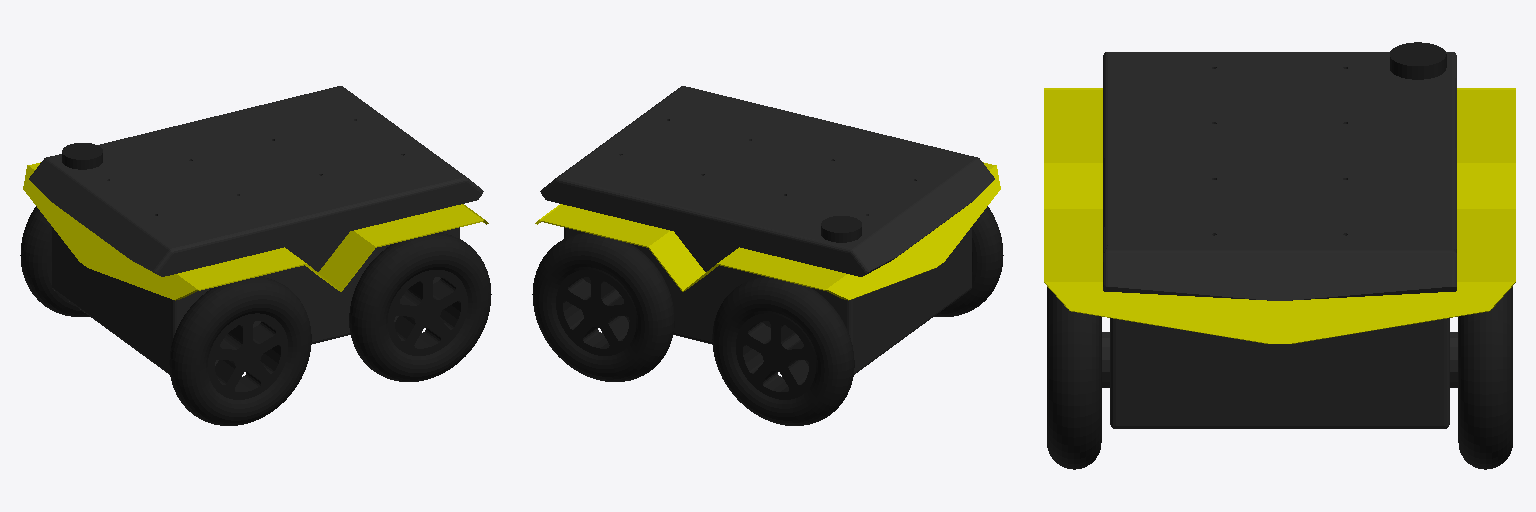
The robot description file, URDF, robot "iggy":
<?xml version="1.0" ?>
<!-- =================================================================================== -->
<!-- |    This document was autogenerated by xacro from [local-path]/catkin_ws/src/iggy_description/urdf/iggy_minimal.urdf.xacro | -->
<!-- |    EDITING THIS FILE BY HAND IS NOT RECOMMENDED                                 | -->
<!-- =================================================================================== -->
<!--
rosrun xacro xacro.py -o iggy_minimal.urdf `rospack find iggy_description`/urdf/iggy_minimal.urdf.xacro
check_urdf iggy_minimal.urdf
urdf_to_graphiz iggy_minimal.urdf
evince iggy_minimal.pdf


-->
<robot name="iggy" xmlns:controller="http://playerstage.sourceforge.net/gazebo/xmlschema/#controller" xmlns:interface="http://playerstage.sourceforge.net/gazebo/xmlschema/#interface" xmlns:xacro="http://www.ros.org/wiki/xacro">
  <!-- TODO UPDATE -->
  <!-- TODO UPDATE -->
  <!-- TODO UPDATE -->
  <!-- TODO UPDATE -->
  <!-- TODO UPDATE -->
  <!-- TODO UPDATE -->
  <!-- TODO UPDATE -->
  <!-- TODO UPDATE -->
  <material name="dark_grey">
    <color rgba="0.2 0.2 0.2 1.0"/>
  </material>
  <material name="light_grey">
    <color rgba="0.4 0.4 0.4 1.0"/>
  </material>
  <material name="yellow">
    <color rgba="0.8 0.8 0.0 1.0"/>
  </material>
  <material name="black">
    <color rgba="0.15 0.15 0.15 1.0"/>
  </material>
  <!-- TODO Create Caster to replace front wheels  -->
  <link name="front_left_wheel_link">
    <visual>
      <origin rpy="1.57079632679 0 0" xyz="0 0 0"/>
      <geometry>
        <mesh filename="package://iggy_description/meshes/jackal-wheel.stl"/>
      </geometry>
      <material name="black"/>
    </visual>
    <collision>
      <origin rpy="1.57079632679 0 0" xyz="0 0 0"/>
      <geometry>
        <cylinder length="0.04" radius="0.098"/>
      </geometry>
    </collision>
    <inertial>
      <origin rpy="0 0 0" xyz="0 0 0"/>
      <mass value="0.477"/>
      <inertia ixx="0.0013" ixy="0" ixz="0" iyy="0.0024" iyz="0" izz="0.0013"/>
    </inertial>
  </link>
  <gazebo reference="front_left_wheel_link">
    <material>Gazebo/DarkGrey</material>
  </gazebo>
  <joint name="front_left_wheel" type="continuous">
    <parent link="chassis_link"/>
    <child link="front_left_wheel_link"/>
    <origin rpy="0 0 0" xyz="0.131 0.187795 0.0345"/>
    <axis xyz="0 1 0"/>
  </joint>
  <!-- Create a transmission for each wheel -->
  <transmission name="front_left_wheel_trans">
    <type>transmission_interface/SimpleTransmission</type>
    <joint name="front_left_wheel">
      <hardwareInterface>VelocityJointInterface</hardwareInterface>
    </joint>
    <actuator name="front_left_actuator">
      <mechanicalReduction>1</mechanicalReduction>
    </actuator>
  </transmission>
  <link name="front_right_wheel_link">
    <visual>
      <origin rpy="1.57079632679 0 0" xyz="0 0 0"/>
      <geometry>
        <mesh filename="package://iggy_description/meshes/jackal-wheel.stl"/>
      </geometry>
      <material name="black"/>
    </visual>
    <collision>
      <origin rpy="1.57079632679 0 0" xyz="0 0 0"/>
      <geometry>
        <cylinder length="0.04" radius="0.098"/>
      </geometry>
    </collision>
    <inertial>
      <origin rpy="0 0 0" xyz="0 0 0"/>
      <mass value="0.477"/>
      <inertia ixx="0.0013" ixy="0" ixz="0" iyy="0.0024" iyz="0" izz="0.0013"/>
    </inertial>
  </link>
  <gazebo reference="front_right_wheel_link">
    <material>Gazebo/DarkGrey</material>
  </gazebo>
  <joint name="front_right_wheel" type="continuous">
    <parent link="chassis_link"/>
    <child link="front_right_wheel_link"/>
    <origin rpy="0 0 0" xyz="0.131 -0.187795 0.0345"/>
    <axis xyz="0 1 0"/>
  </joint>
  <!-- Create a transmission for each wheel -->
  <transmission name="front_right_wheel_trans">
    <type>transmission_interface/SimpleTransmission</type>
    <joint name="front_right_wheel">
      <hardwareInterface>VelocityJointInterface</hardwareInterface>
    </joint>
    <actuator name="front_right_actuator">
      <mechanicalReduction>1</mechanicalReduction>
    </actuator>
  </transmission>
  <link name="rear_left_wheel_link">
    <visual>
      <origin rpy="1.57079632679 0 0" xyz="0 0 0"/>
      <geometry>
        <mesh filename="package://iggy_description/meshes/jackal-wheel.stl"/>
      </geometry>
      <material name="black"/>
    </visual>
    <collision>
      <origin rpy="1.57079632679 0 0" xyz="0 0 0"/>
      <geometry>
        <cylinder length="0.04" radius="0.098"/>
      </geometry>
    </collision>
    <inertial>
      <origin rpy="0 0 0" xyz="0 0 0"/>
      <mass value="0.477"/>
      <inertia ixx="0.0013" ixy="0" ixz="0" iyy="0.0024" iyz="0" izz="0.0013"/>
    </inertial>
  </link>
  <gazebo reference="rear_left_wheel_link">
    <material>Gazebo/DarkGrey</material>
  </gazebo>
  <joint name="rear_left_wheel" type="continuous">
    <parent link="chassis_link"/>
    <child link="rear_left_wheel_link"/>
    <origin rpy="0 0 0" xyz="-0.131 0.187795 0.0345"/>
    <axis xyz="0 1 0"/>
  </joint>
  <!-- Create a transmission for each wheel -->
  <transmission name="rear_left_wheel_trans">
    <type>transmission_interface/SimpleTransmission</type>
    <joint name="rear_left_wheel">
      <hardwareInterface>VelocityJointInterface</hardwareInterface>
    </joint>
    <actuator name="rear_left_actuator">
      <mechanicalReduction>1</mechanicalReduction>
    </actuator>
  </transmission>
  <link name="rear_right_wheel_link">
    <visual>
      <origin rpy="1.57079632679 0 0" xyz="0 0 0"/>
      <geometry>
        <mesh filename="package://iggy_description/meshes/jackal-wheel.stl"/>
      </geometry>
      <material name="black"/>
    </visual>
    <collision>
      <origin rpy="1.57079632679 0 0" xyz="0 0 0"/>
      <geometry>
        <cylinder length="0.04" radius="0.098"/>
      </geometry>
    </collision>
    <inertial>
      <origin rpy="0 0 0" xyz="0 0 0"/>
      <mass value="0.477"/>
      <inertia ixx="0.0013" ixy="0" ixz="0" iyy="0.0024" iyz="0" izz="0.0013"/>
    </inertial>
  </link>
  <gazebo reference="rear_right_wheel_link">
    <material>Gazebo/DarkGrey</material>
  </gazebo>
  <joint name="rear_right_wheel" type="continuous">
    <parent link="chassis_link"/>
    <child link="rear_right_wheel_link"/>
    <origin rpy="0 0 0" xyz="-0.131 -0.187795 0.0345"/>
    <axis xyz="0 1 0"/>
  </joint>
  <!-- Create a transmission for each wheel -->
  <transmission name="rear_right_wheel_trans">
    <type>transmission_interface/SimpleTransmission</type>
    <joint name="rear_right_wheel">
      <hardwareInterface>VelocityJointInterface</hardwareInterface>
    </joint>
    <actuator name="rear_right_actuator">
      <mechanicalReduction>1</mechanicalReduction>
    </actuator>
  </transmission>
  <link name="base_link"/>
  <joint name="base_link_joint" type="fixed">
    <origin rpy="0 0 0" xyz="0 0 0"/>
    <parent link="base_link"/>
    <child link="chassis_link"/>
  </joint>
  <link name="chassis_link">
    <visual>
      <origin rpy="1.57079632679 0 1.57079632679" xyz="0 0 -0.0655"/>
      <geometry>
        <mesh filename="package://iggy_description/meshes/jackal-base.stl"/>
      </geometry>
      <material name="dark_grey"/>
    </visual>
    <collision>
      <origin xyz="0 0 0.092"/>
      <geometry>
        <box size="0.914 0.609 0.184"/>
      </geometry>
    </collision>
    <inertial>
      <!-- Center of mass -->
      <origin rpy="0 0 0" xyz="0.012  0.002 0.067"/>
      <mass value="16.523"/>
      <!-- Moments of inertia: ( chassis without wheels ) -->
      <inertia ixx="0.3136" ixy="-0.0008" ixz="0.0164" iyy="0.3922" iyz="-0.0009" izz="0.4485"/>
    </inertial>
  </link>
  <!-- TODO IGGY does not have fenders. What to do with this?? -->
  <link name="fenders_link">
    <visual>
      <origin rpy="1.57079632679 0 1.57079632679" xyz="0 0 -0.0655"/>
      <geometry>
        <mesh filename="package://iggy_description/meshes/jackal-fenders.stl"/>
      </geometry>
      <material name="yellow"/>
    </visual>
  </link>
  <joint name="fenders_joint" type="fixed">
    <parent link="chassis_link"/>
    <child link="fenders_link"/>
  </joint>
  <!-- TODO: Make this internal_imu_link or something, and use a mixed-in xacro
       to supply the joint between it and imu_link. This is important so that imu_link
       always points to the "active" IMU. When an upgrade IMU is connected, the
       internal_imu_link should remain, but imu_link should point to the upgrade one. -->
  <link name="imu_link">
    <inertial>
      <mass value="0.001"/>
      <origin rpy="0 0 0" xyz="0 0 0"/>
      <inertia ixx="1e-09" ixy="0.0" ixz="0.0" iyy="1e-09" iyz="0.0" izz="1e-09"/>
    </inertial>
  </link>
  <joint name="imu_joint" type="fixed">
    <parent link="chassis_link"/>
    <child link="imu_link"/>
  </joint>
  <!-- TODO: Same note as applies to imu_link -->
  <link name="navsat_link">
    <visual>
      <geometry>
        <cylinder length="0.016" radius="0.026"/>
      </geometry>
      <origin xyz="0 0 0.008"/>
      <material name="black"/>
    </visual>
  </link>
  <joint name="navsat_joint" type="fixed">
    <parent link="chassis_link"/>
    <child link="navsat_link"/>
    <origin xyz="-0.180 0.126 0.1815"/>
  </joint>
  <link name="mid_mount"/>
  <joint name="mid_mount_joint" type="fixed">
    <parent link="chassis_link"/>
    <child link="mid_mount"/>
    <origin xyz="0 0 0.184"/>
  </joint>
  <link name="rear_mount"/>
  <joint name="rear_mount_joint" type="fixed">
    <parent link="mid_mount"/>
    <child link="rear_mount"/>
    <origin xyz="-0.12 0 0"/>
  </joint>
  <link name="front_mount"/>
  <joint name="front_mount_joint" type="fixed">
    <parent link="mid_mount"/>
    <child link="front_mount"/>
    <origin xyz="0.12 0 0"/>
  </joint>
  <!-- Bring in simulation data for Gazebo. -->
  <!--  <gazebo>
    <plugin name="gazebo_ros_control" filename="libgazebo_ros_control.so">
      <robotNamespace>/iggy</robotNamespace>
    </plugin>
  </gazebo> -->
  <gazebo>
    <!-- TODO: make custom plugin for this that doesn't require an imu
        <plugin name="diffdrive_plugin" filename="libDiffDrivePlugin.so">                
                <alwaysOn>true</alwaysOn>
                <updateRate>50.0</updateRate>
                <left_joint>rear_left_wheel_link</left_joint>
                <right_joint>rear_right_wheel_link</right_joint>
                <wheelSeparation>${wheelbase}</wheelSeparation>
                <wheelDiameter>${wheel_radius*2}</wheelDiameter>
                <torque>50000</torque>
                <interface:position name="position_iface_2"/>  
                <robotNamespace>/iggy</robotNamespace>
                <robotBaseFrame>base_link</robotBaseFrame>
                <commandTopic>cmd_vel</commandTopic>
                <publishOdometryTf>1</publishOdometryTf>
                <publishOdometryMsg>1</publishOdometryMsg>
                <odometryTopic>odom</odometryTopic>
        </plugin> -->
    <plugin filename="libgazebo_ros_diff_drive.so" name="diffdrive_plugin">
      <alwaysOn>true</alwaysOn>
      <updateRate>50.0</updateRate>
      <leftJoint>rear_left_wheel</leftJoint>
      <rightJoint>rear_right_wheel</rightJoint>
      <wheelSeparation>0.262</wheelSeparation>
      <wheelDiameter>0.196</wheelDiameter>
      <wheelTorque>5000</wheelTorque>
      <publishWheelTF>false</publishWheelTF>
      <publishWheelJointState>false</publishWheelJointState>
      <wheelAcceleration>0</wheelAcceleration>
      <rosDebugLevel>4</rosDebugLevel>
      <robotNamespace/>
      <commandTopic>cmd_vel</commandTopic>
      <odometryTopic>odom</odometryTopic>
      <odometryFrame>odom</odometryFrame>
      <robotBaseFrame>base_link</robotBaseFrame>
    </plugin>
    <plugin filename="libgazebo_ros_p3d.so" name="p3d_base_controller">
      <alwaysOn>true</alwaysOn>
      <updateRate>50.0</updateRate>
      <bodyName>base_link</bodyName>
      <topicName>ground_truth/state</topicName>
      <gaussianNoise>0.01</gaussianNoise>
      <frameName>world</frameName>
      <xyzOffsets>0 0 0</xyzOffsets>
      <rpyOffsets>0 0 0</rpyOffsets>
    </plugin>
  </gazebo>
  <gazebo>
    <plugin filename="libhector_gazebo_ros_imu.so" name="imu_controller">
      <robotNamespace>/iggy</robotNamespace>
      <updateRate>50.0</updateRate>
      <bodyName>imu_link</bodyName>
      <topicName>imu/data</topicName>
      <accelDrift>0.005 0.005 0.005</accelDrift>
      <accelGaussianNoise>0.005 0.005 0.005</accelGaussianNoise>
      <rateDrift>0.005 0.005 0.005 </rateDrift>
      <rateGaussianNoise>0.005 0.005 0.005 </rateGaussianNoise>
      <headingDrift>0.005</headingDrift>
      <headingGaussianNoise>0.005</headingGaussianNoise>
    </plugin>
  </gazebo>
  <gazebo>
    <plugin filename="libhector_gazebo_ros_gps.so" name="gps_controller">
      <updateRate>40</updateRate>
      <robotNamespace>/iggy</robotNamespace>
      <bodyName>navsat_link</bodyName>
      <frameId>base_link</frameId>
      <topicName>navsat/fix</topicName>
      <velocityTopicName>snavsat/vel</velocityTopicName>
      <referenceLatitude>49.9</referenceLatitude>
      <referenceLongitude>8.9</referenceLongitude>
      <referenceHeading>0</referenceHeading>
      <referenceAltitude>0</referenceAltitude>
      <drift>0.0001 0.0001 0.0001</drift>
    </plugin>
  </gazebo>
  <gazebo reference="base_link">
    <turnGravityOff>false</turnGravityOff>
  </gazebo>
  <gazebo reference="chassis_link">
    <material>Gazebo/DarkGrey</material>
    <turnGravityOff>false</turnGravityOff>
  </gazebo>
  <gazebo reference="imu_link">
    <turnGravityOff>false</turnGravityOff>
  </gazebo>
  <gazebo reference="navsat_link">
    <material>Gazebo/DarkGrey</material>
    <turnGravityOff>false</turnGravityOff>
  </gazebo>
  <gazebo reference="fenders_link">
    <material>Gazebo/Yellow</material>
    <turnGravityOff>false</turnGravityOff>
  </gazebo>
</robot>

--- What the picture shows (computed from the rendered views, not written in the file) ---
The picture shows the robot from 3 angles, left to right: view 1: azimuth 30°, elevation 25°; view 2: azimuth 150°, elevation 25°; view 3: azimuth 270°, elevation 25°; orthographic projection.
Robot: iggy — 12 links, 11 joints (4 continuous, 7 fixed); root link base_link; default pose: all joints at 0.
Links seen in each view (by area): view 1: chassis_link, rear_right_wheel_link, front_right_wheel_link, fenders_link, rear_left_wheel_link, navsat_link; view 2: chassis_link, rear_left_wheel_link, front_left_wheel_link, fenders_link, rear_right_wheel_link, navsat_link; view 3: chassis_link, fenders_link, front_left_wheel_link, front_right_wheel_link, navsat_link.
Boxes of the visible links, <box> form: chassis_link: <box>29,86,483,374</box>; rear_right_wheel_link: <box>169,277,311,425</box>; front_right_wheel_link: <box>349,233,491,381</box>; fenders_link: <box>23,162,488,300</box>; rear_left_wheel_link: <box>20,206,89,316</box>; navsat_link: <box>62,143,102,169</box>; chassis_link: <box>540,86,994,374</box>; rear_left_wheel_link: <box>712,277,854,425</box>; front_left_wheel_link: <box>532,233,674,381</box>; fenders_link: <box>535,162,1000,300</box>; rear_right_wheel_link: <box>934,206,1003,316</box>; navsat_link: <box>821,216,861,242</box>; chassis_link: <box>1102,52,1457,428</box>; fenders_link: <box>1044,88,1515,343</box>; front_left_wheel_link: <box>1458,287,1512,469</box>; front_right_wheel_link: <box>1047,287,1101,469</box>; navsat_link: <box>1390,42,1446,79</box>.
Bounding box of the posed robot: 0.5031 × 0.43 × 0.2628 m (x, y, z).
Meshes: 3 distinct files referenced, 6 mesh visuals loaded (3 binary STL).
